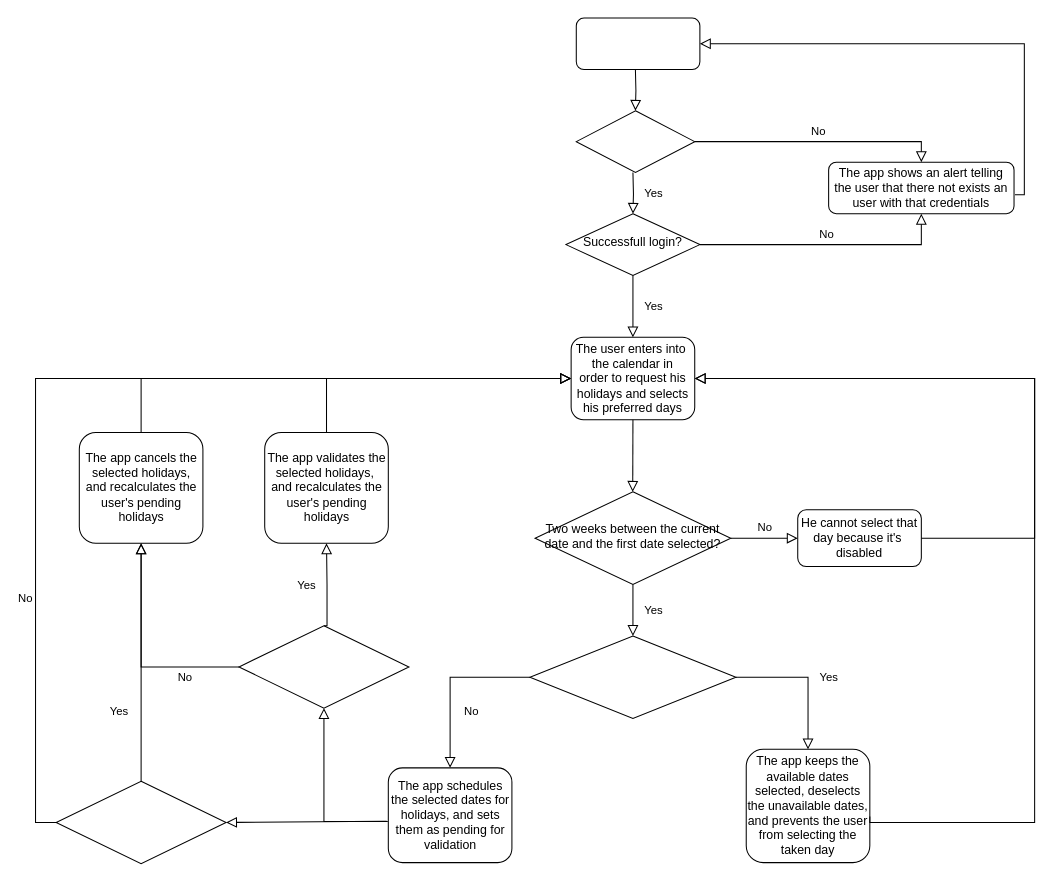
The diagram is 1063 pixels wide and 882 high, and some of its shapes have lost their labels. Each missing label, with the box of its shape:
Is that date or one of his selected dates selected by another user?: (529, 635, 736, 718)
The boss validates the requested holidays for the user: (238, 625, 409, 708)
The user exists: (575, 110, 695, 173)
The user tries to login: (575, 17, 700, 70)
The user wants to cancel a scheduled holiday: (55, 780, 226, 864)
